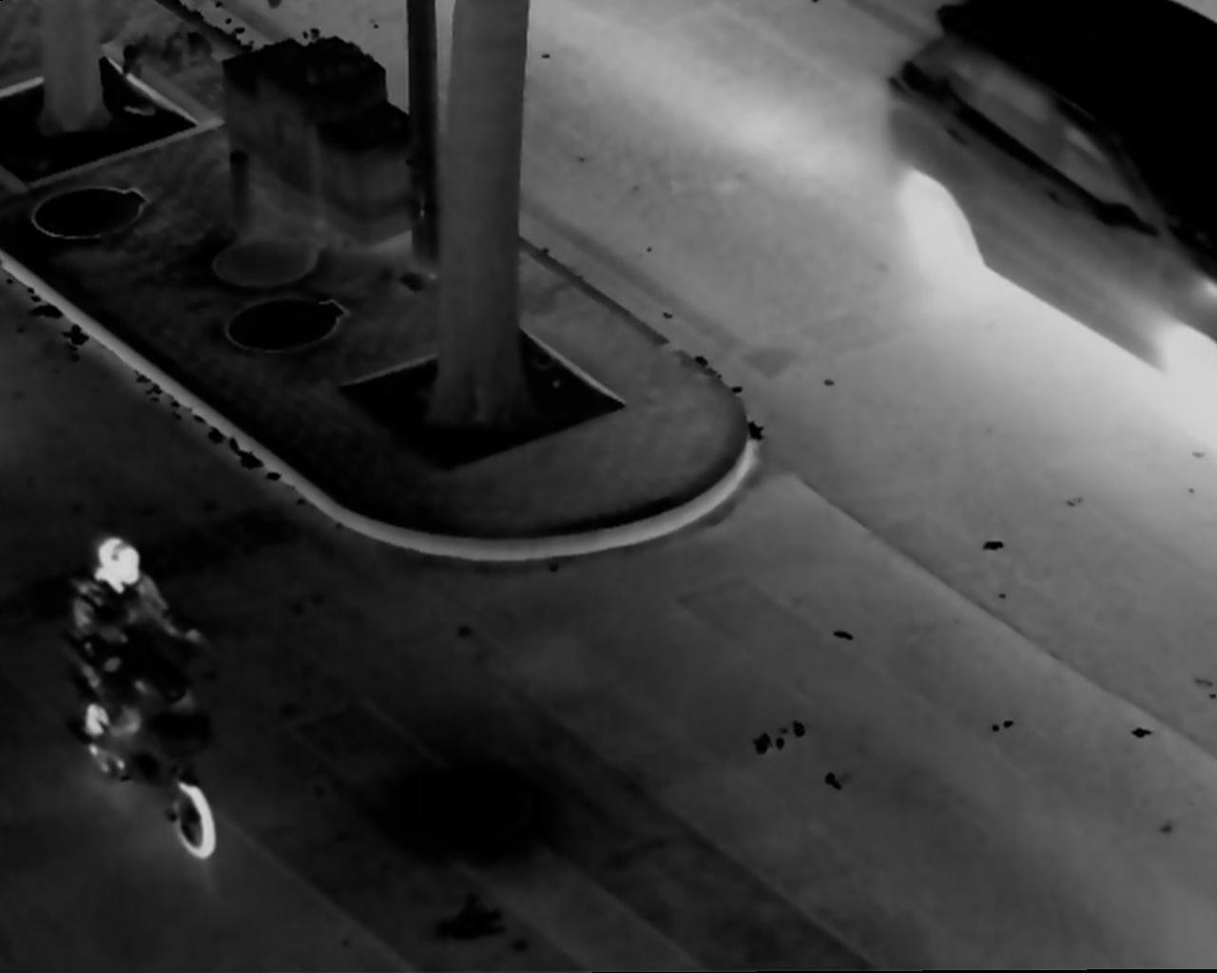person: (71, 530, 203, 792)
